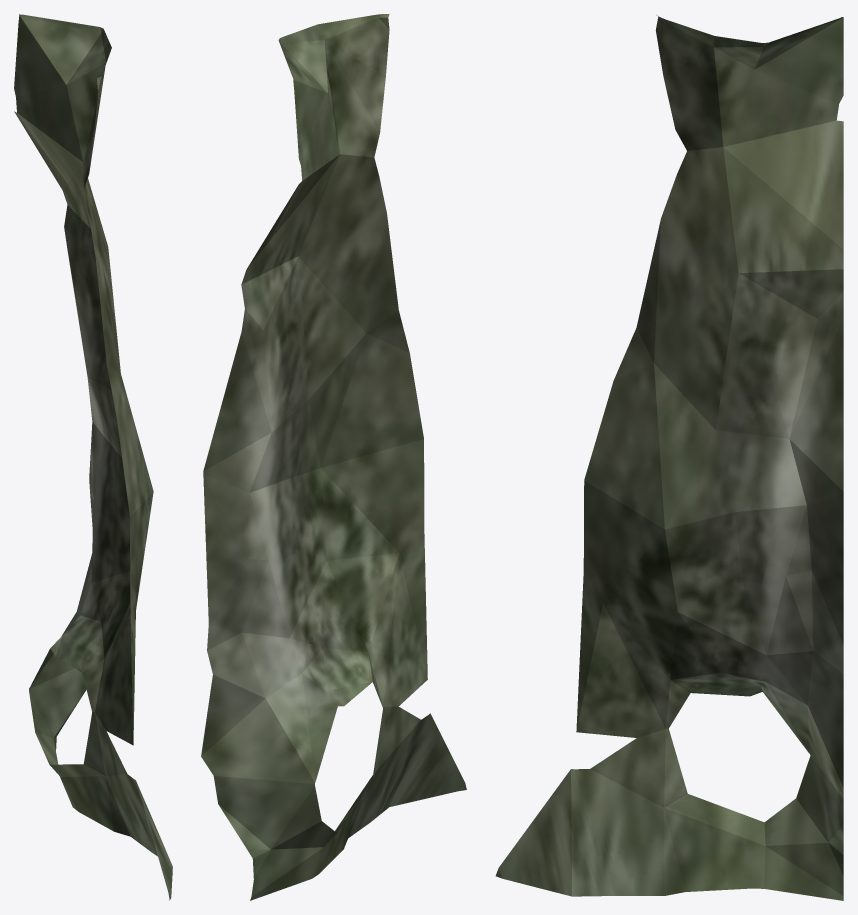
The picture shows the model from 3 angles, left to right: view 1: azimuth 30°, elevation 25°; view 2: azimuth 150°, elevation 25°; view 3: azimuth 270°, elevation 25°; orthographic projection. The views are drawn at different scales.
Size of the model in its own units: 0.3629 by 2.95 by 1.08.
1 material, 1 textured.
